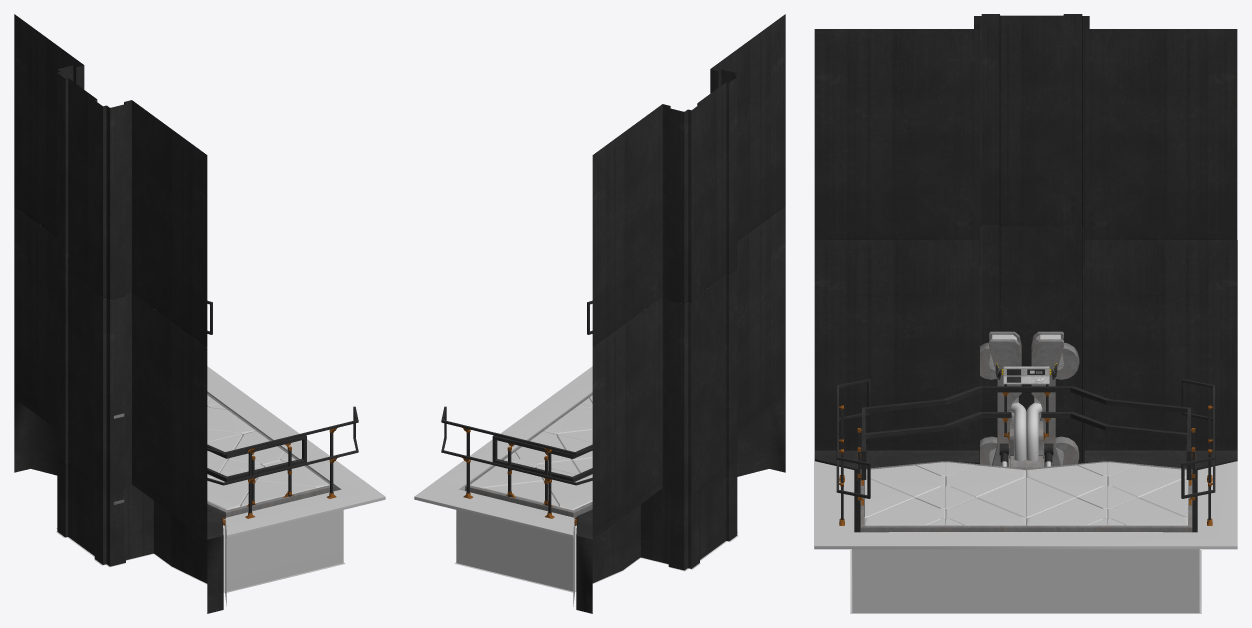
Rendered from ElevatorWide.fbx.
The picture shows the model from 3 angles, left to right: view 1: azimuth 30°, elevation 25°; view 2: azimuth 150°, elevation 25°; view 3: azimuth 270°, elevation 25°; orthographic projection. The views are drawn at different scales.
Visible parts, largest first — view 1: Wall, Wall array, Floor, Elevator; view 2: Wall, Wall array, Floor, Elevator; view 3: Wall array, Wall, Floor, Elevator.
Part boxes in pixels (left/top/right/bottom): Wall: left=14, top=206, right=223, bottom=613; Wall array: left=14, top=14, right=207, bottom=346; Floor: left=56, top=300, right=385, bottom=606; Elevator: left=113, top=393, right=334, bottom=525; Wall: left=576, top=206, right=785, bottom=613; Wall array: left=592, top=14, right=785, bottom=346; Floor: left=414, top=300, right=738, bottom=606; Elevator: left=465, top=393, right=592, bottom=525; Wall array: left=814, top=14, right=1237, bottom=239; Wall: left=814, top=224, right=1237, bottom=532; Floor: left=814, top=379, right=1237, bottom=613; Elevator: left=857, top=331, right=1195, bottom=532.
Size of the model in its own units: 346 by 732 by 558.
